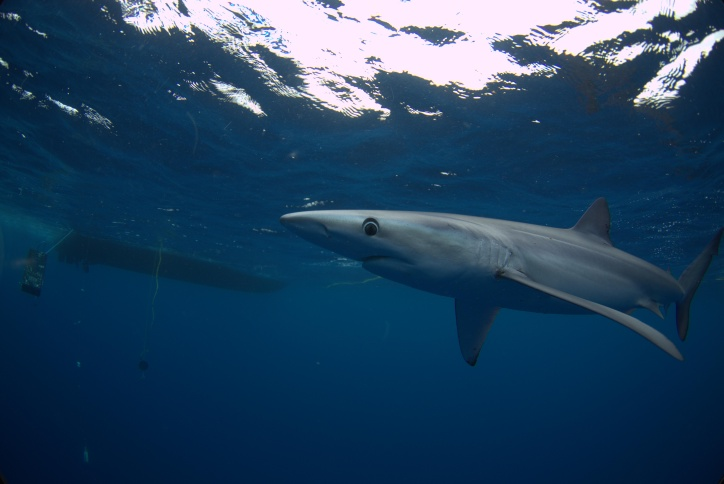Azul: (259, 170, 723, 405)
